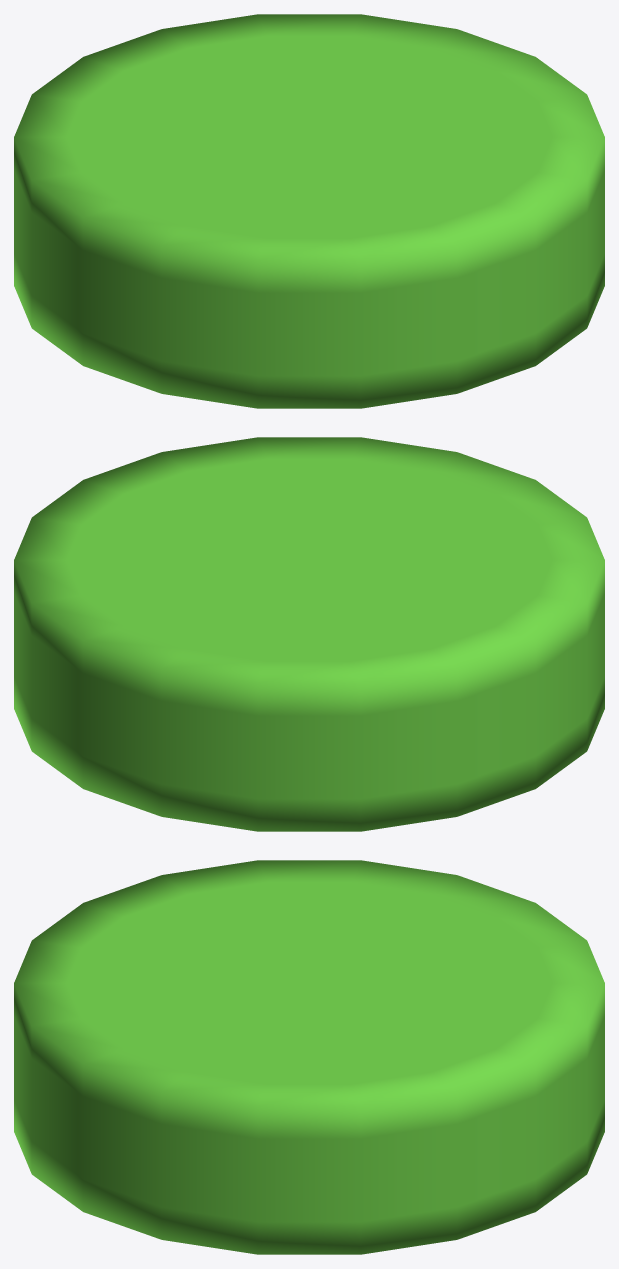
The model's file is coloring gex.fbx.
3 renders of one model, top to bottom at view 1: azimuth 30°, elevation 25°; view 2: azimuth 150°, elevation 25°; view 3: azimuth 270°, elevation 25°, orthographic.
Parts seen in each view (by area): view 1: Cylinder015; view 2: Cylinder015; view 3: Cylinder015.
Boxes of the visible parts, x1=… form: Cylinder015: x1=14, y1=14, x2=604, y2=408; Cylinder015: x1=14, y1=437, x2=604, y2=831; Cylinder015: x1=14, y1=860, x2=604, y2=1254.
Size of the model in its own units: 47.71 by 13.43 by 48.45.
